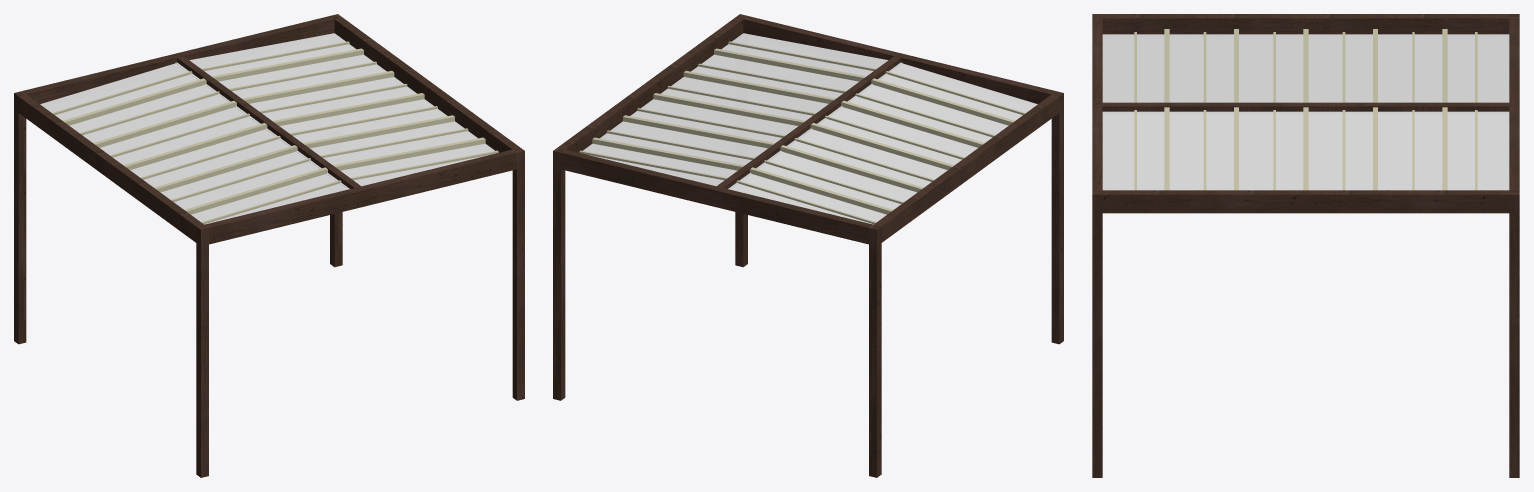
Rendered from hyr-double_h30-w40-l40_darkpine.fbx.
3 renders of one model, left to right at view 1: azimuth 30°, elevation 25°; view 2: azimuth 150°, elevation 25°; view 3: azimuth 270°, elevation 25°, orthographic. The views are drawn at different scales.
Parts seen in each view (by area): view 1: hyr-double_h30-w40-l40_darkpine; view 2: hyr-double_h30-w40-l40_darkpine; view 3: hyr-double_h30-w40-l40_darkpine.
Part boxes in pixels (left/top/right/bottom): hyr-double_h30-w40-l40_darkpine: left=14, top=14, right=524, bottom=477; hyr-double_h30-w40-l40_darkpine: left=553, top=14, right=1063, bottom=477; hyr-double_h30-w40-l40_darkpine: left=1092, top=14, right=1519, bottom=477.
Size of the model in its own units: 410 by 300 by 410.
Materials: 3 (2 with a texture image).
